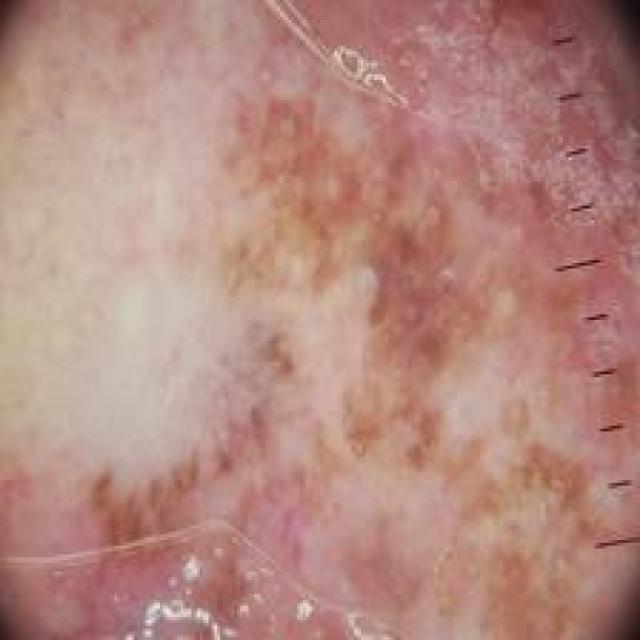Cancer: (94, 85, 605, 636)
